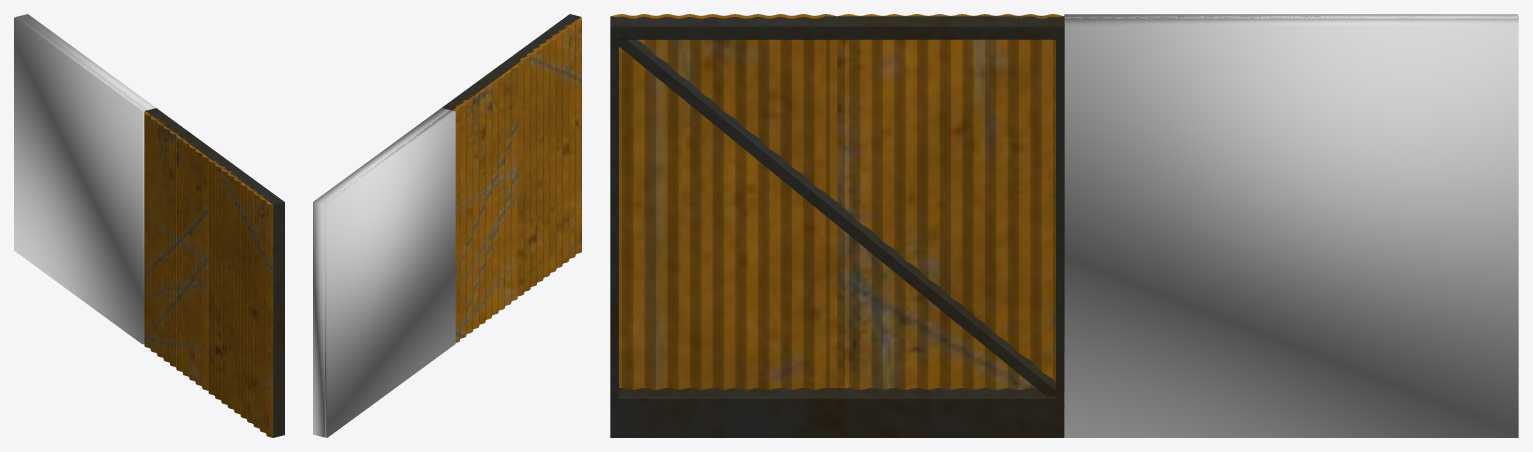
File: SM_Wall_Basic.fbx
3 renders of one model, left to right at view 1: azimuth 30°, elevation 25°; view 2: azimuth 150°, elevation 25°; view 3: azimuth 270°, elevation 25°, orthographic. The views are drawn at different scales.
Visible parts, largest first — view 1: SM_Wall_Basic, SM_Wall_Basic_ConvexHulls; view 2: SM_Wall_Basic_ConvexHulls, SM_Wall_Basic; view 3: SM_Wall_Basic_ConvexHulls, SM_Wall_Basic.
Part boxes in pixels (x1,y1,x2,y2): SM_Wall_Basic: (144,108,284,437); SM_Wall_Basic_ConvexHulls: (14,14,155,344); SM_Wall_Basic_ConvexHulls: (313,108,455,437); SM_Wall_Basic: (442,14,581,342); SM_Wall_Basic_ConvexHulls: (1064,14,1518,437); SM_Wall_Basic: (610,14,1064,437).
Size of the model in its own units: 0.2 by 3 by 6.
